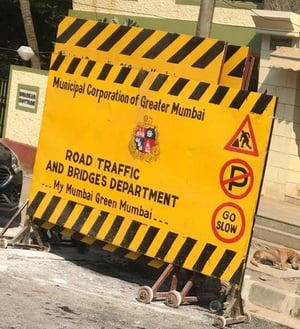caution: (221, 114, 264, 159)
